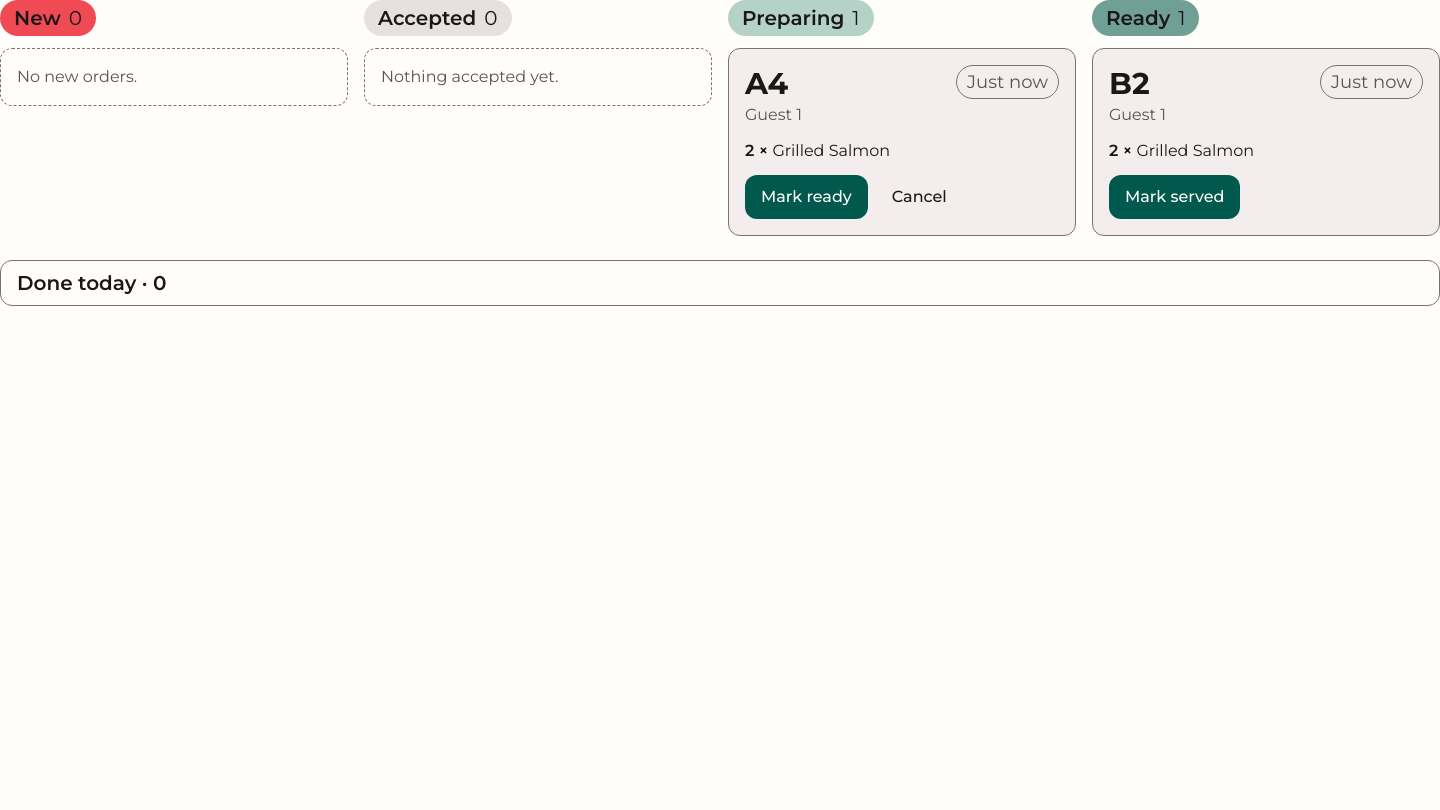
OrderBoard › offers Cancel only where the database allows it, behind a confirmation
The image size is (1440, 810).
Click the button named "Cancel A4, Guest 1" at (919, 196), box [876,174,963,218]
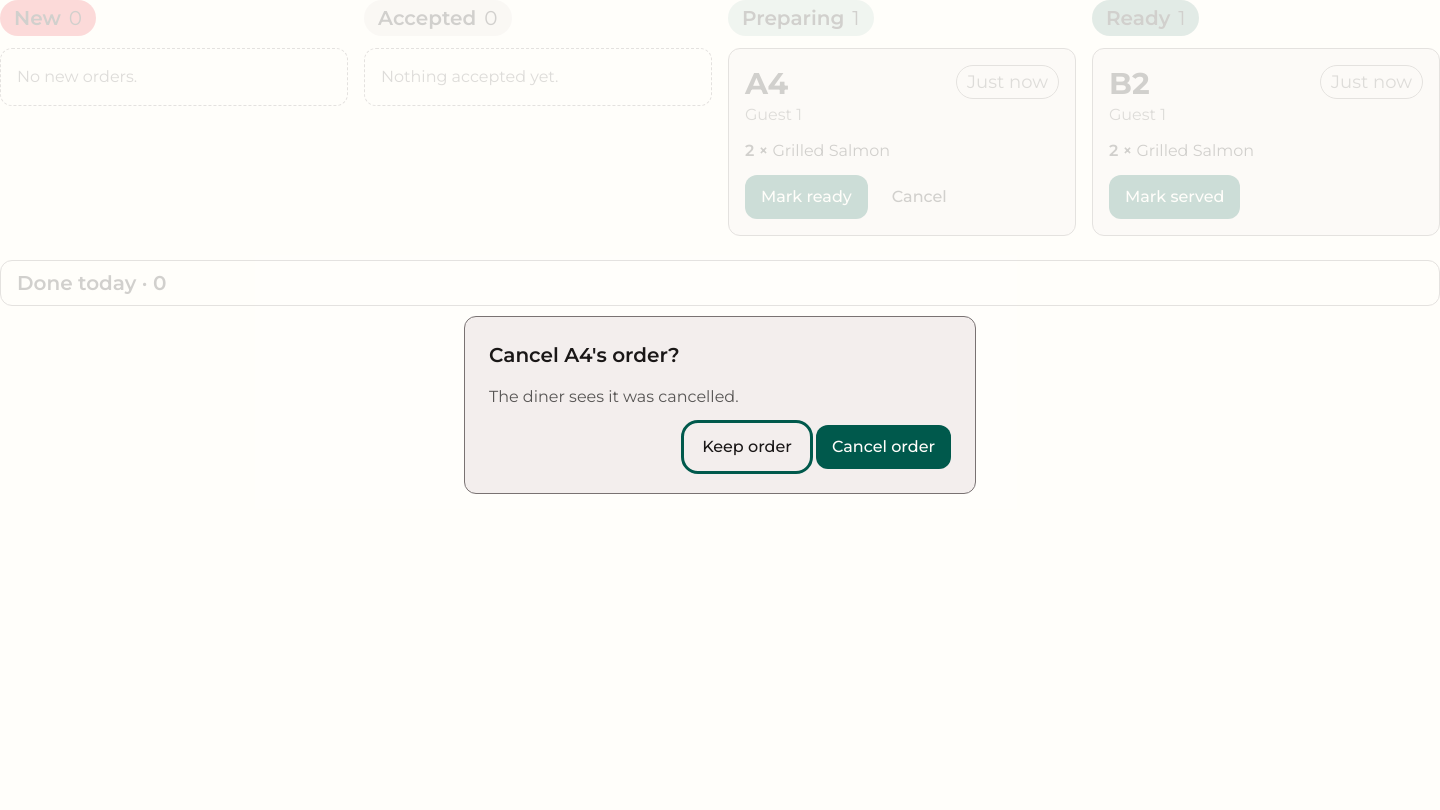
Now the button "Keep order" is shown, box [686,425,808,469]
Now the button "Cancel order" is shown, box [816,425,951,469]
